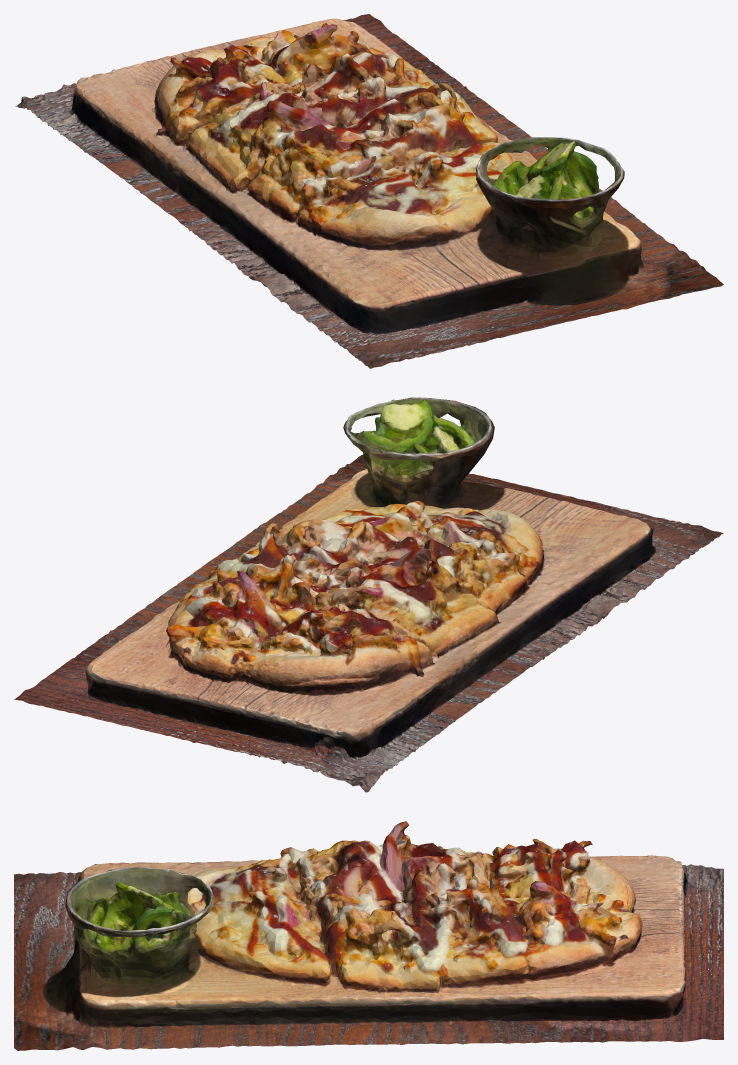
Rendered from bbq-chicken-flatbread.glb.
The picture shows the model from 3 angles, top to bottom: view 1: azimuth 30°, elevation 25°; view 2: azimuth 150°, elevation 25°; view 3: azimuth 270°, elevation 25°; orthographic projection.
Size of the model in its own units: 0.2254 by 0.0708 by 0.3912.
Materials: 1 (1 with a texture image).
